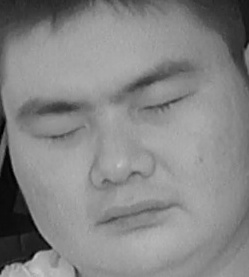blink: (35, 117, 84, 152), (141, 89, 191, 123)
mouth: (87, 190, 179, 238)
